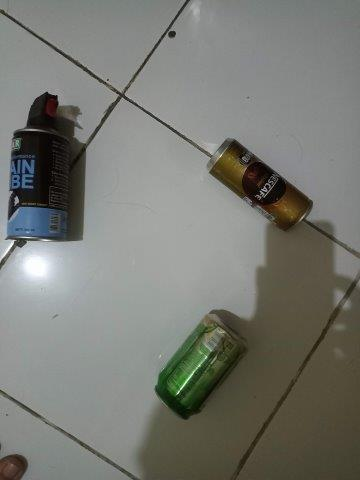kaleng: (154, 313, 249, 420), (207, 137, 315, 231), (5, 128, 72, 243)
